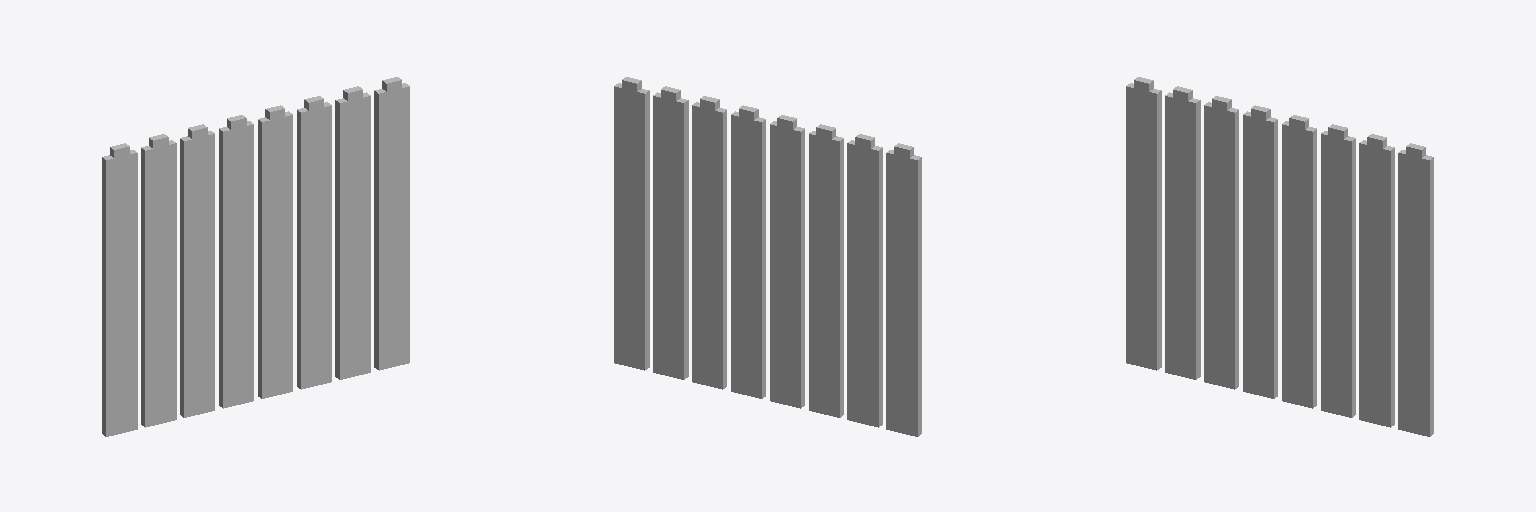
The model's file is fence.obj.
3 renders of one model, left to right at view 1: azimuth 30°, elevation 25°; view 2: azimuth 150°, elevation 25°; view 3: azimuth 330°, elevation 25°, orthographic.
Visible parts, largest first — view 1: object 1; view 2: object 1; view 3: object 1.
Boxes of the visible parts, <box> form: object 1: <box>102,77,409,436</box>; object 1: <box>614,77,921,436</box>; object 1: <box>1126,77,1433,436</box>.
Bounding box in the file's own units: 3.9 × 3.5 × 0.1.